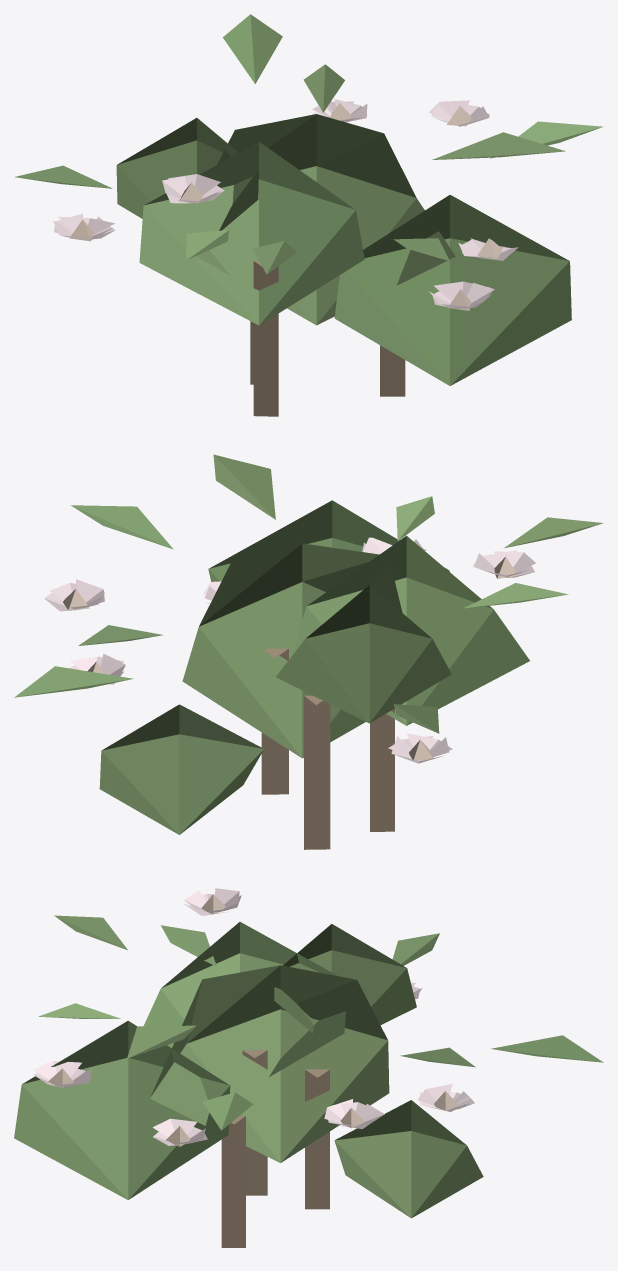
File: guan.zhizi__spring.glb
The picture shows the model from 3 angles, top to bottom: view 1: azimuth 30°, elevation 25°; view 2: azimuth 150°, elevation 25°; view 3: azimuth 270°, elevation 25°; orthographic projection. The views are drawn at different scales.
Parts seen in each view (by area): view 1: guan.zhizi__spring; view 2: guan.zhizi__spring; view 3: guan.zhizi__spring.
Part boxes in pixels (x1,y1,x2,y2): guan.zhizi__spring: (15, 14, 603, 416); guan.zhizi__spring: (14, 454, 603, 849); guan.zhizi__spring: (14, 888, 603, 1247).
Bounding box in the file's own units: 2.51 × 1.46 × 2.89.
